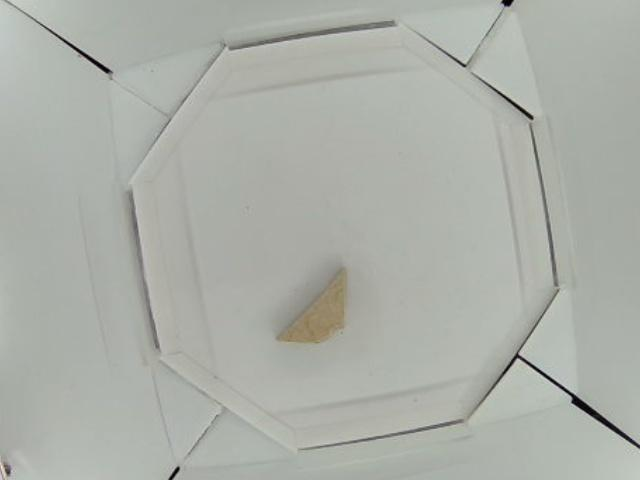China: (279, 264, 348, 345)
